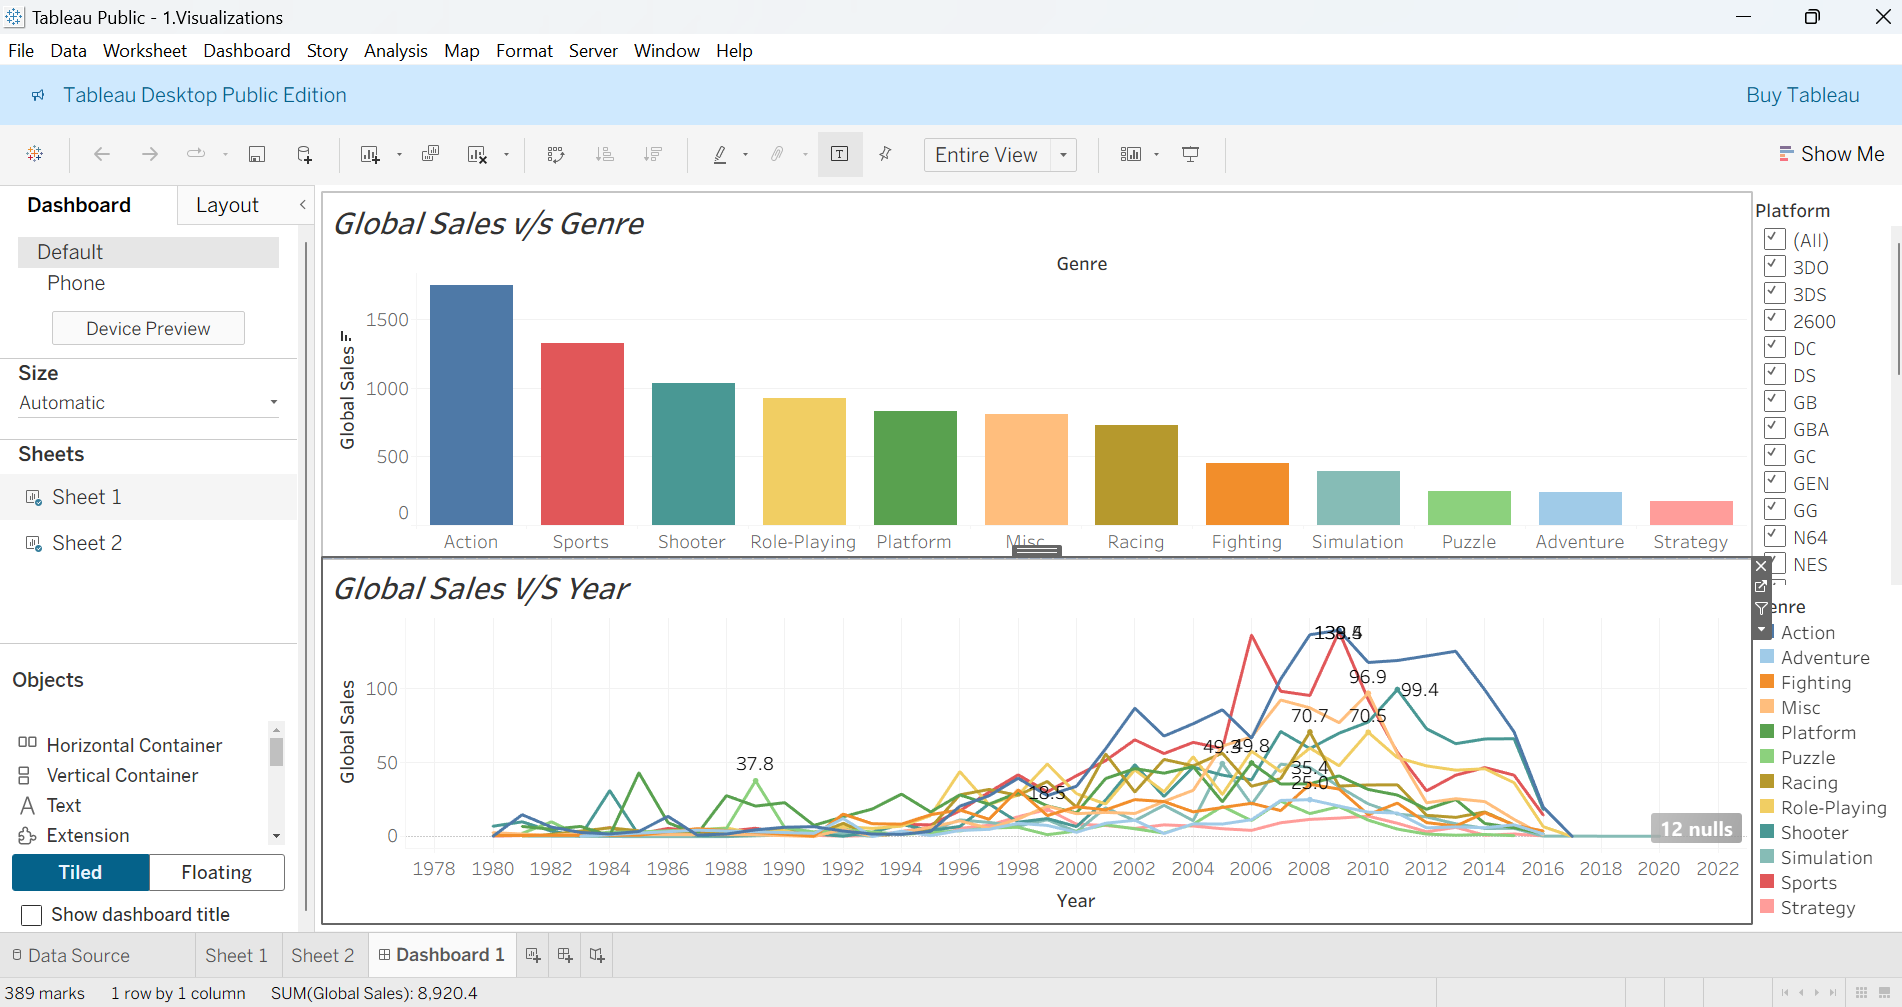

The page's visual inventory and layout, read from the dashboard file:
{"tool":"tableau","page":{"name":"Dashboard 1","canvas":[1000,1000],"units":"permille","ordinal":0},"visuals":[{"type":"worksheet","title":"Sheet 2","mark":"Automatic","rows":["Global_Sales"],"cols":["Genre"],"box":[5,10.7,890.3,489.3]},{"type":"filter","title":"Sheet 1","param":"[federated.02pd0ia1hcozo619vpqfd0l4ak6p].[none:Platform:nk]","box":[895.3,10.7,99.8,530.8]},{"type":"worksheet","title":"Sheet 1","mark":"Automatic","rows":["Global_Sales"],"cols":["Year"],"box":[5,500,890.3,489.3]},{"type":"legend","title":"Sheet 1","param":"[federated.02pd0ia1hcozo619vpqfd0l4ak6p].[none:Genre:nk]","box":[895.3,541.6,99.8,447.7]}]}

Visuals, with their boxes on the dashboard's canvas, which has no fixed pixel size, in thousandths of its width and height (x1, y1, x2, y2). These are canvas units, not pixel positions in the 1902x1007 screenshot, which may show the page scaled, cropped or inside an application window:
"Sheet 2" worksheet: box=[5, 11, 895, 500]
"Sheet 1" filter: box=[895, 11, 995, 542]
"Sheet 1" worksheet: box=[5, 500, 895, 989]
"Sheet 1" legend: box=[895, 542, 995, 989]
